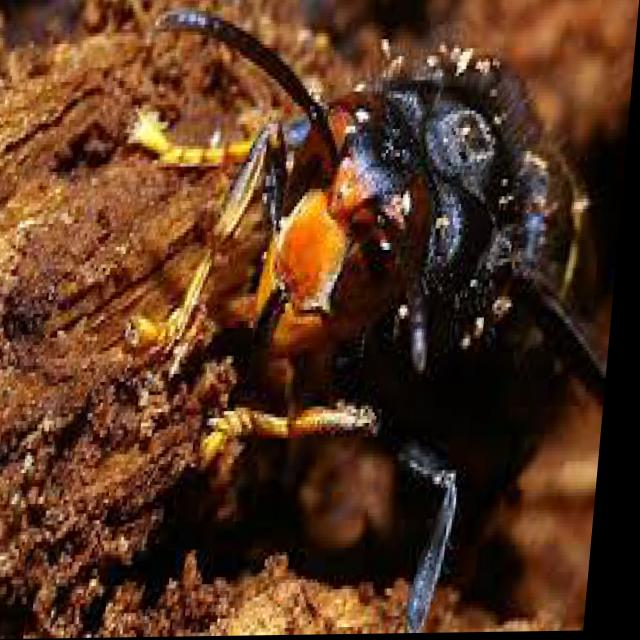Vespa Velutina: (78, 0, 638, 635)
